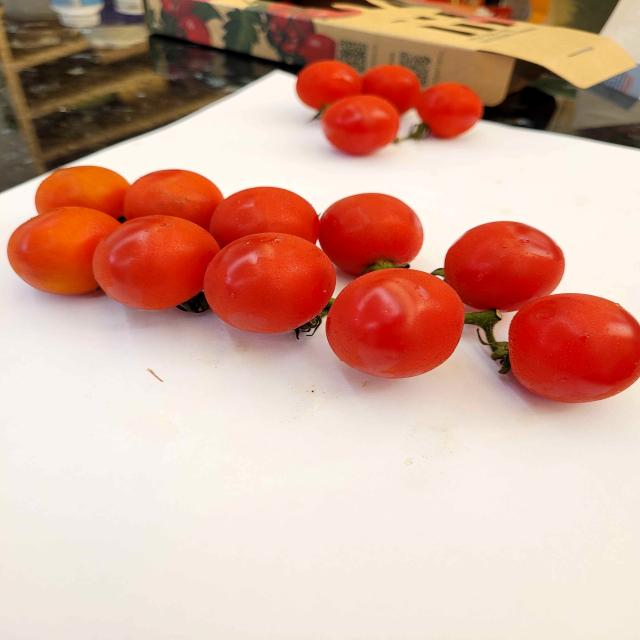ripe2: (326, 269, 465, 378), (509, 293, 640, 403), (203, 233, 336, 334), (92, 215, 220, 310), (444, 221, 565, 312), (7, 207, 121, 295), (318, 193, 424, 277), (209, 187, 319, 248), (123, 170, 224, 230), (35, 166, 130, 219)
